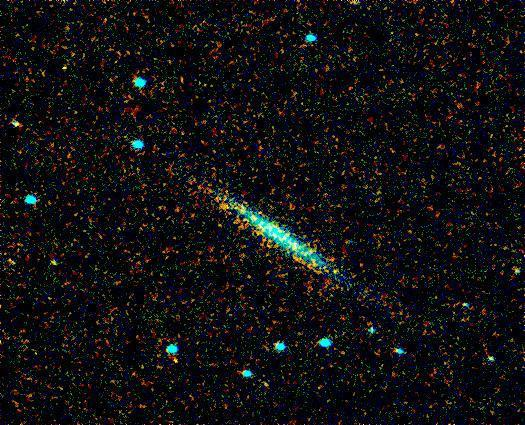star: (249, 369, 279, 399)
